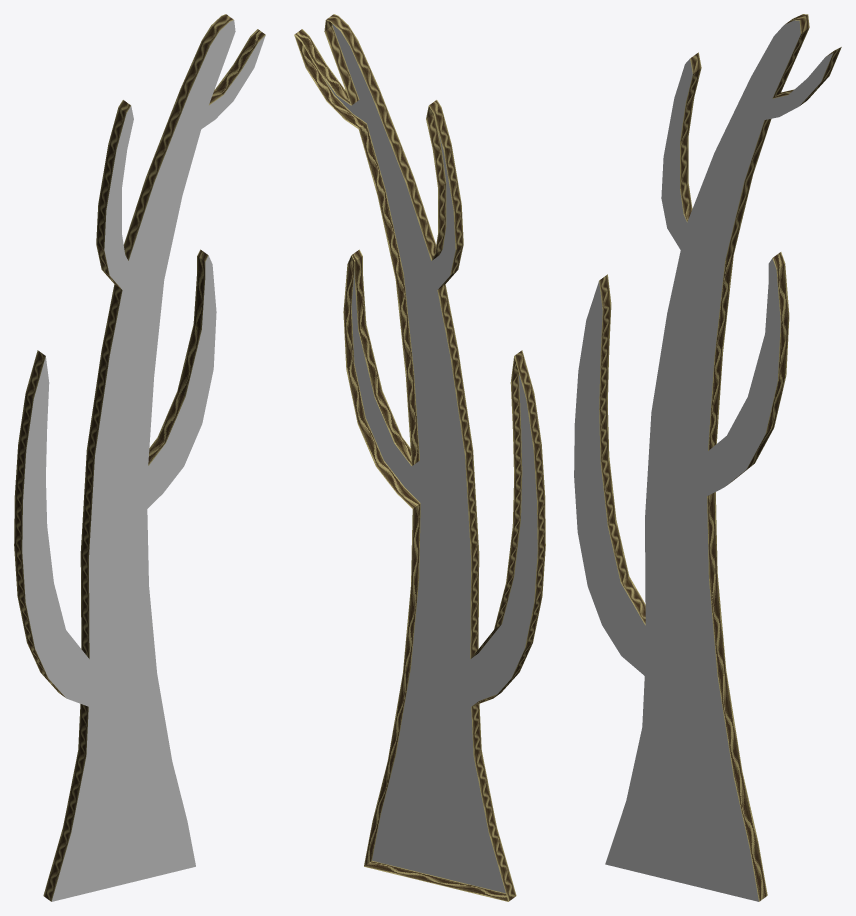
File: tree_01.fbx
The picture shows the model from 3 angles, left to right: view 1: azimuth 30°, elevation 25°; view 2: azimuth 150°, elevation 25°; view 3: azimuth 330°, elevation 25°; orthographic projection. The views are drawn at different scales.
Parts seen in each view (by area): view 1: tree_01; view 2: tree_01; view 3: tree_01.
Part boxes in pixels (bbox=[...]): tree_01: bbox=[14, 14, 265, 901]; tree_01: bbox=[294, 14, 545, 901]; tree_01: bbox=[574, 14, 841, 901].
Size of the model in its own units: 1.36 by 4.48 by 0.0795.
